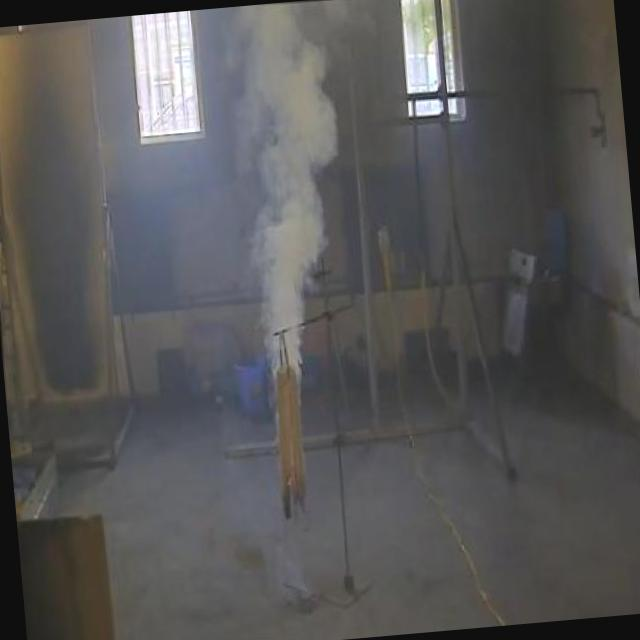smoke: (199, 0, 370, 397)
